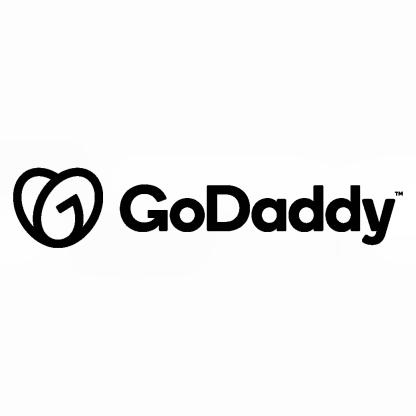Go Daddy: (116, 182, 399, 244), (9, 168, 103, 248)
